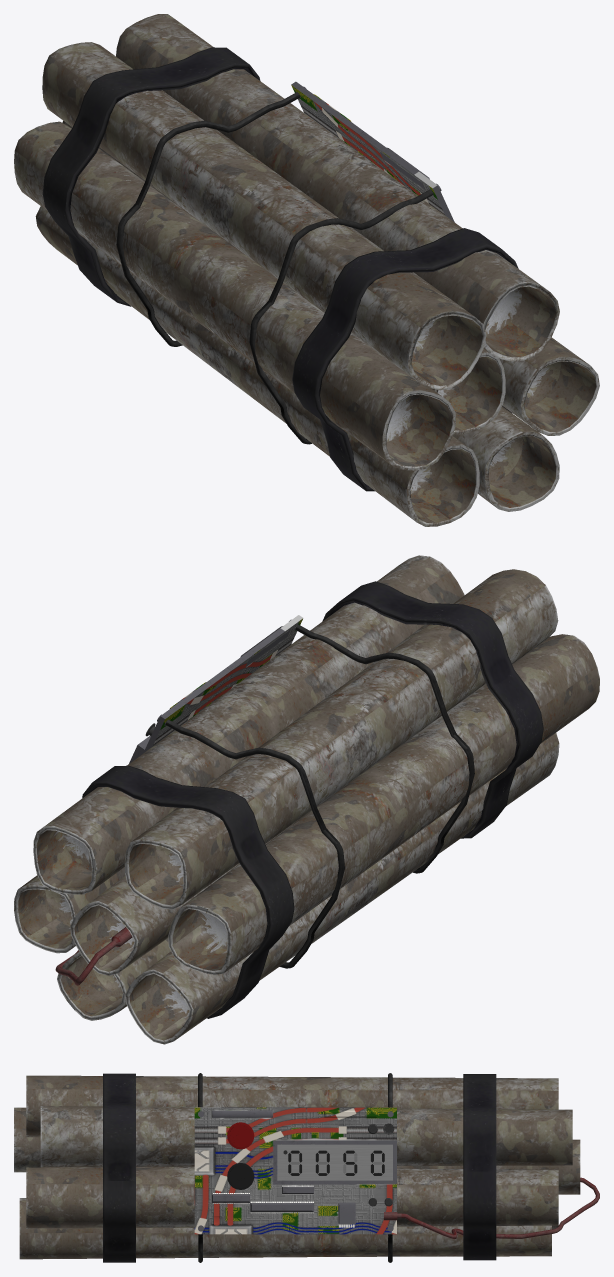
Rendered from Bomb.FBX.
3 views of the same model, one above another, from view 1: azimuth 30°, elevation 25°; view 2: azimuth 150°, elevation 25°; view 3: azimuth 270°, elevation 25° (orthographic). The views are drawn at different scales.
Parts seen in each view (by area): view 1: g polySurface207, g pCylinder34; view 2: g polySurface207, g pCylinder34; view 3: g polySurface207, g pCylinder34.
Part boxes in pixels (bbox=[...]): g polySurface207: bbox=[14, 14, 599, 526]; g pCylinder34: bbox=[116, 81, 454, 444]; g polySurface207: bbox=[14, 555, 599, 1044]; g pCylinder34: bbox=[55, 615, 474, 985]; g polySurface207: bbox=[14, 1073, 580, 1262]; g pCylinder34: bbox=[194, 1073, 599, 1262].
Size of the model in its own units: 69.87 by 62.2 by 200.
Materials: 2 (2 with a texture image).
